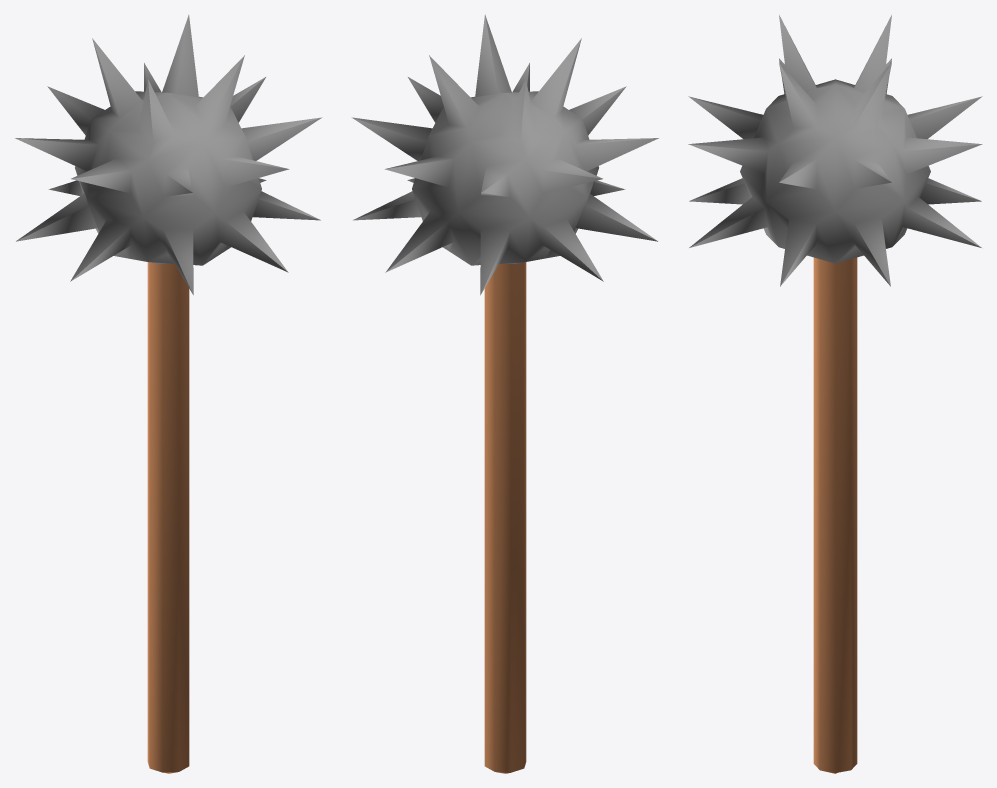
The model's file is Spiked Mace.fbx.
The picture shows the model from 3 angles, left to right: view 1: azimuth 30°, elevation 25°; view 2: azimuth 150°, elevation 25°; view 3: azimuth 270°, elevation 25°; orthographic projection.
Parts seen in each view (by area): view 1: Cube; view 2: Cube; view 3: Cube.
Part boxes in pixels (x1,y1,x2,y2): Cube: (15,14,322,773); Cube: (351,14,658,773); Cube: (688,15,982,773).
Size of the model in its own units: 259 by 713 by 259.
